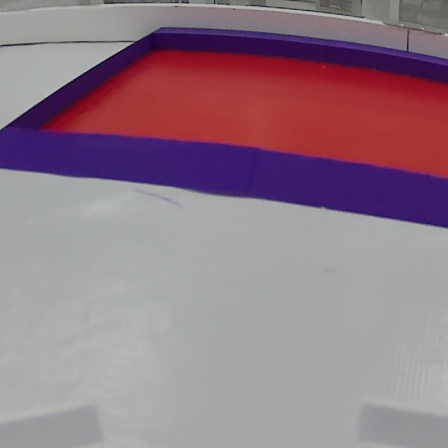red_aim: (1, 27, 448, 225)
